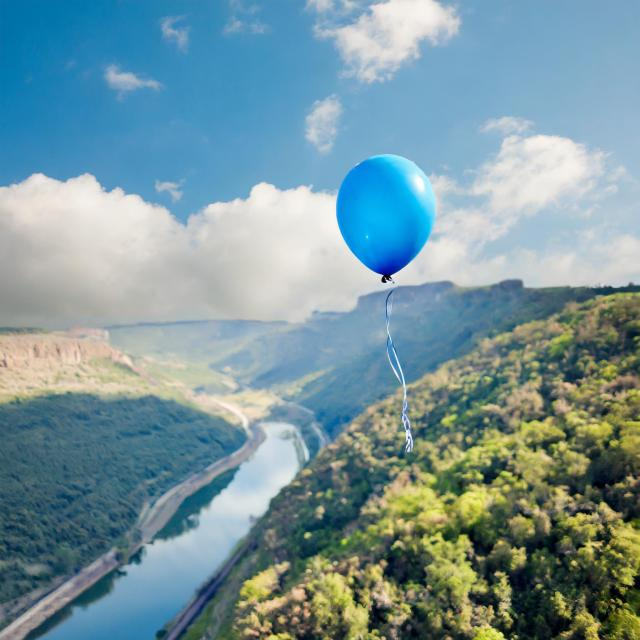blue: (339, 156, 436, 281)
